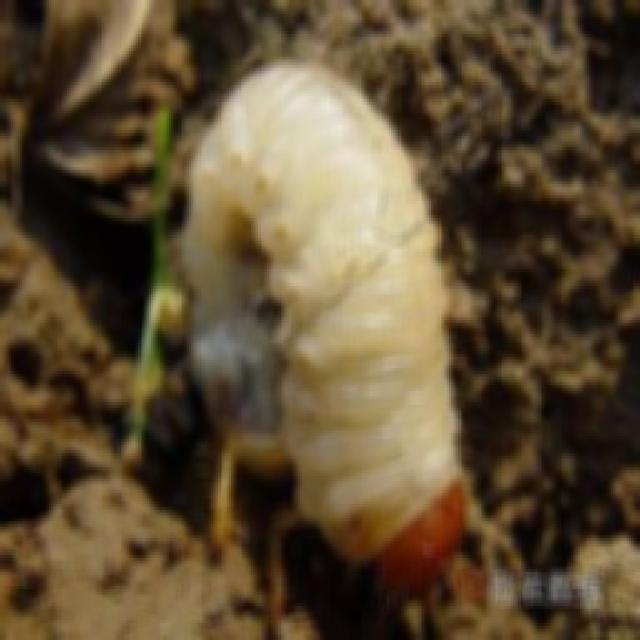army worm: (178, 58, 478, 596)
